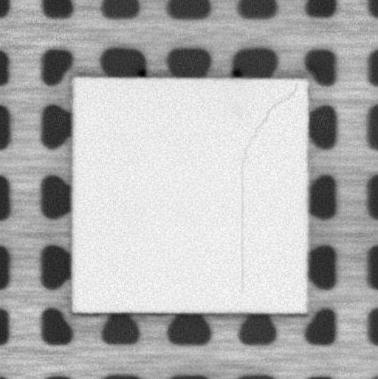DIE_CRACK: (238, 85, 298, 296)
